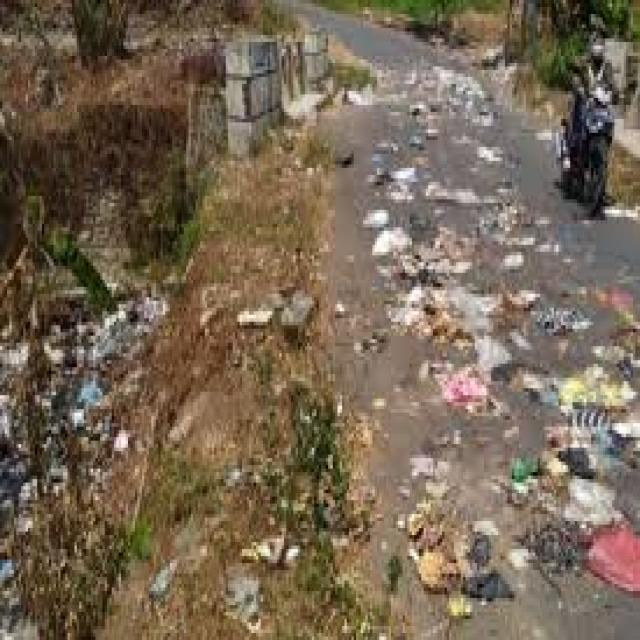trash: (319, 116, 526, 607)
